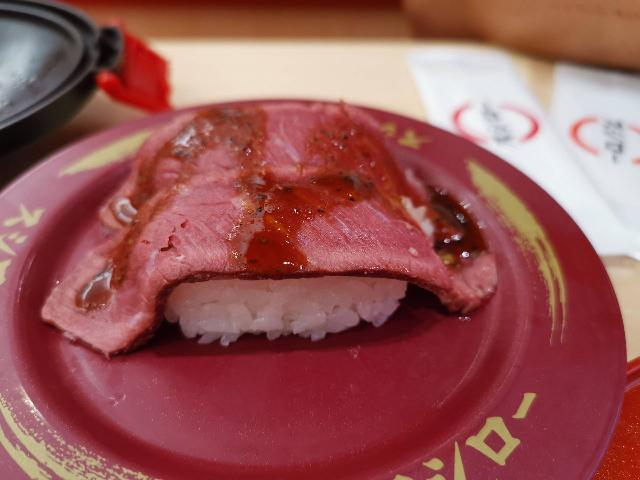janred: (4, 113, 640, 480), (607, 378, 640, 480)
